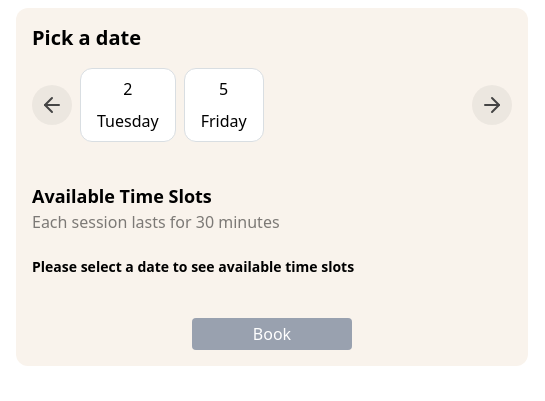
TimeSlots Component › resets state after booking
Click the text "5".
click(224, 89)  # box [219,78,228,100]
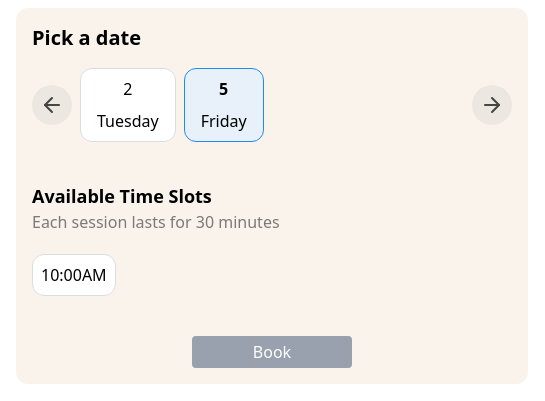
Click the button "10:00AM".
click(74, 275)  # box [32,254,116,296]
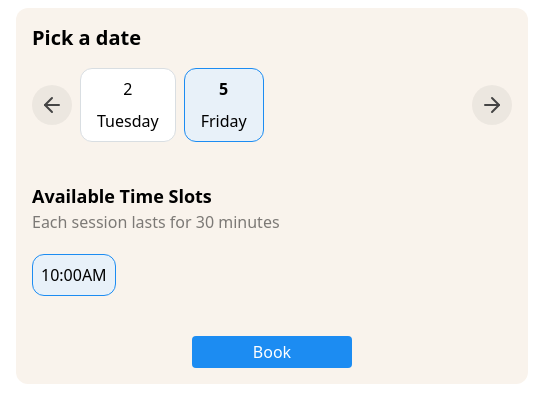
Click the button "Book".
click(272, 352)  # box [192,336,352,368]
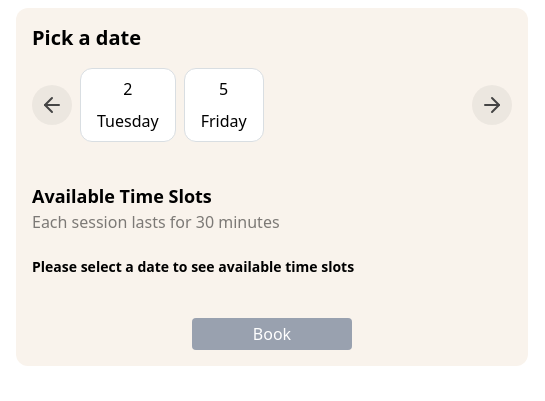
Result: the button "Book" is disabled at [192,318,352,350]
Result: the text "Please select a date to see available time slots" is shown at [32,257,354,276]
